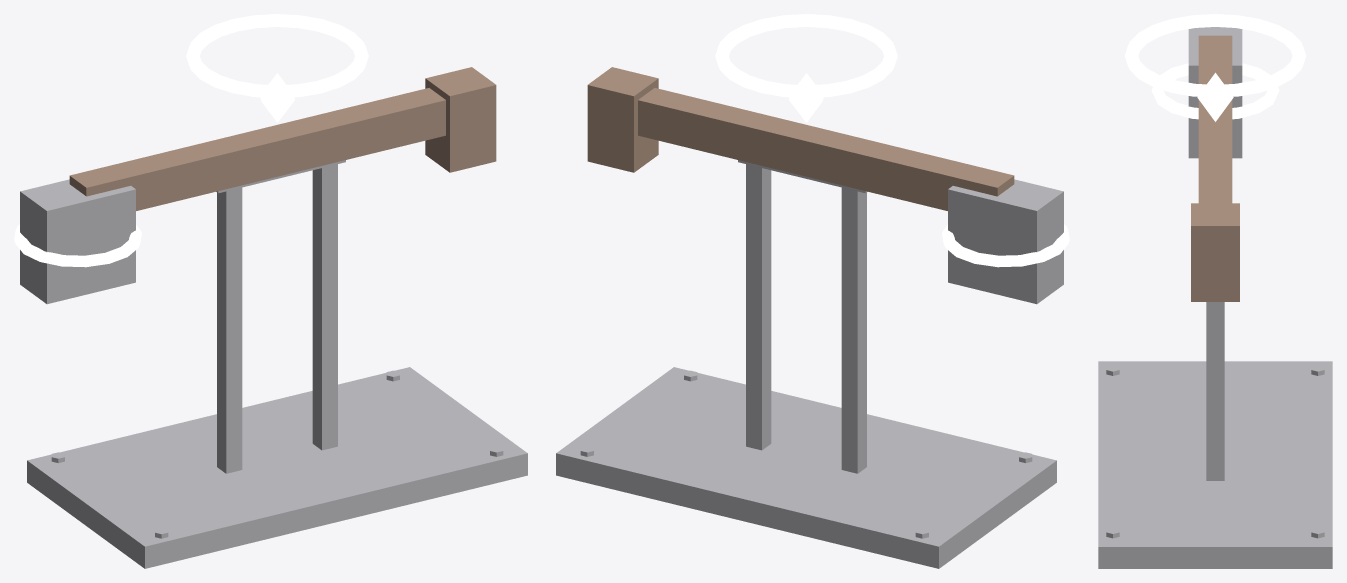
File: pump_jack_mythic.glb
The picture shows the model from 3 angles, left to right: view 1: azimuth 30°, elevation 25°; view 2: azimuth 150°, elevation 25°; view 3: azimuth 270°, elevation 25°; orthographic projection.
Visible parts, largest first — view 1: pump_jack, beam; view 2: pump_jack, beam; view 3: pump_jack, beam.
Boxes of the visible parts, <box> form: pump_jack: <box>14,14,527,568</box>; beam: <box>69,88,445,210</box>; pump_jack: <box>556,14,1069,568</box>; beam: <box>638,88,1014,210</box>; pump_jack: <box>1098,14,1332,568</box>; beam: <box>1198,35,1232,203</box>.
Bounding box in the file's own units: 3.47 × 3.09 × 1.54.
